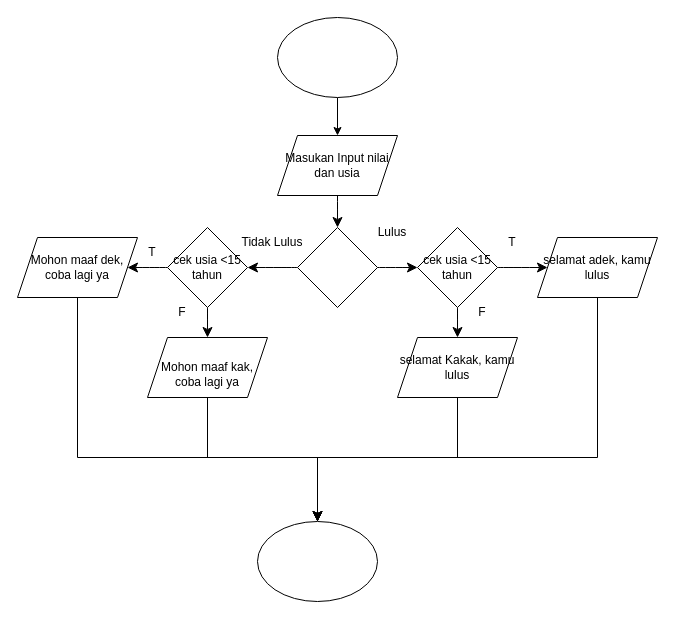
This 675x619 diagram has some shape labels left out. Here are the shapes that lost their labels. From the top down, the box of each, then its label:
(276, 16, 398, 98): START
(296, 226, 378, 308): nilai 75 untuk lulus
(256, 520, 378, 602): END
